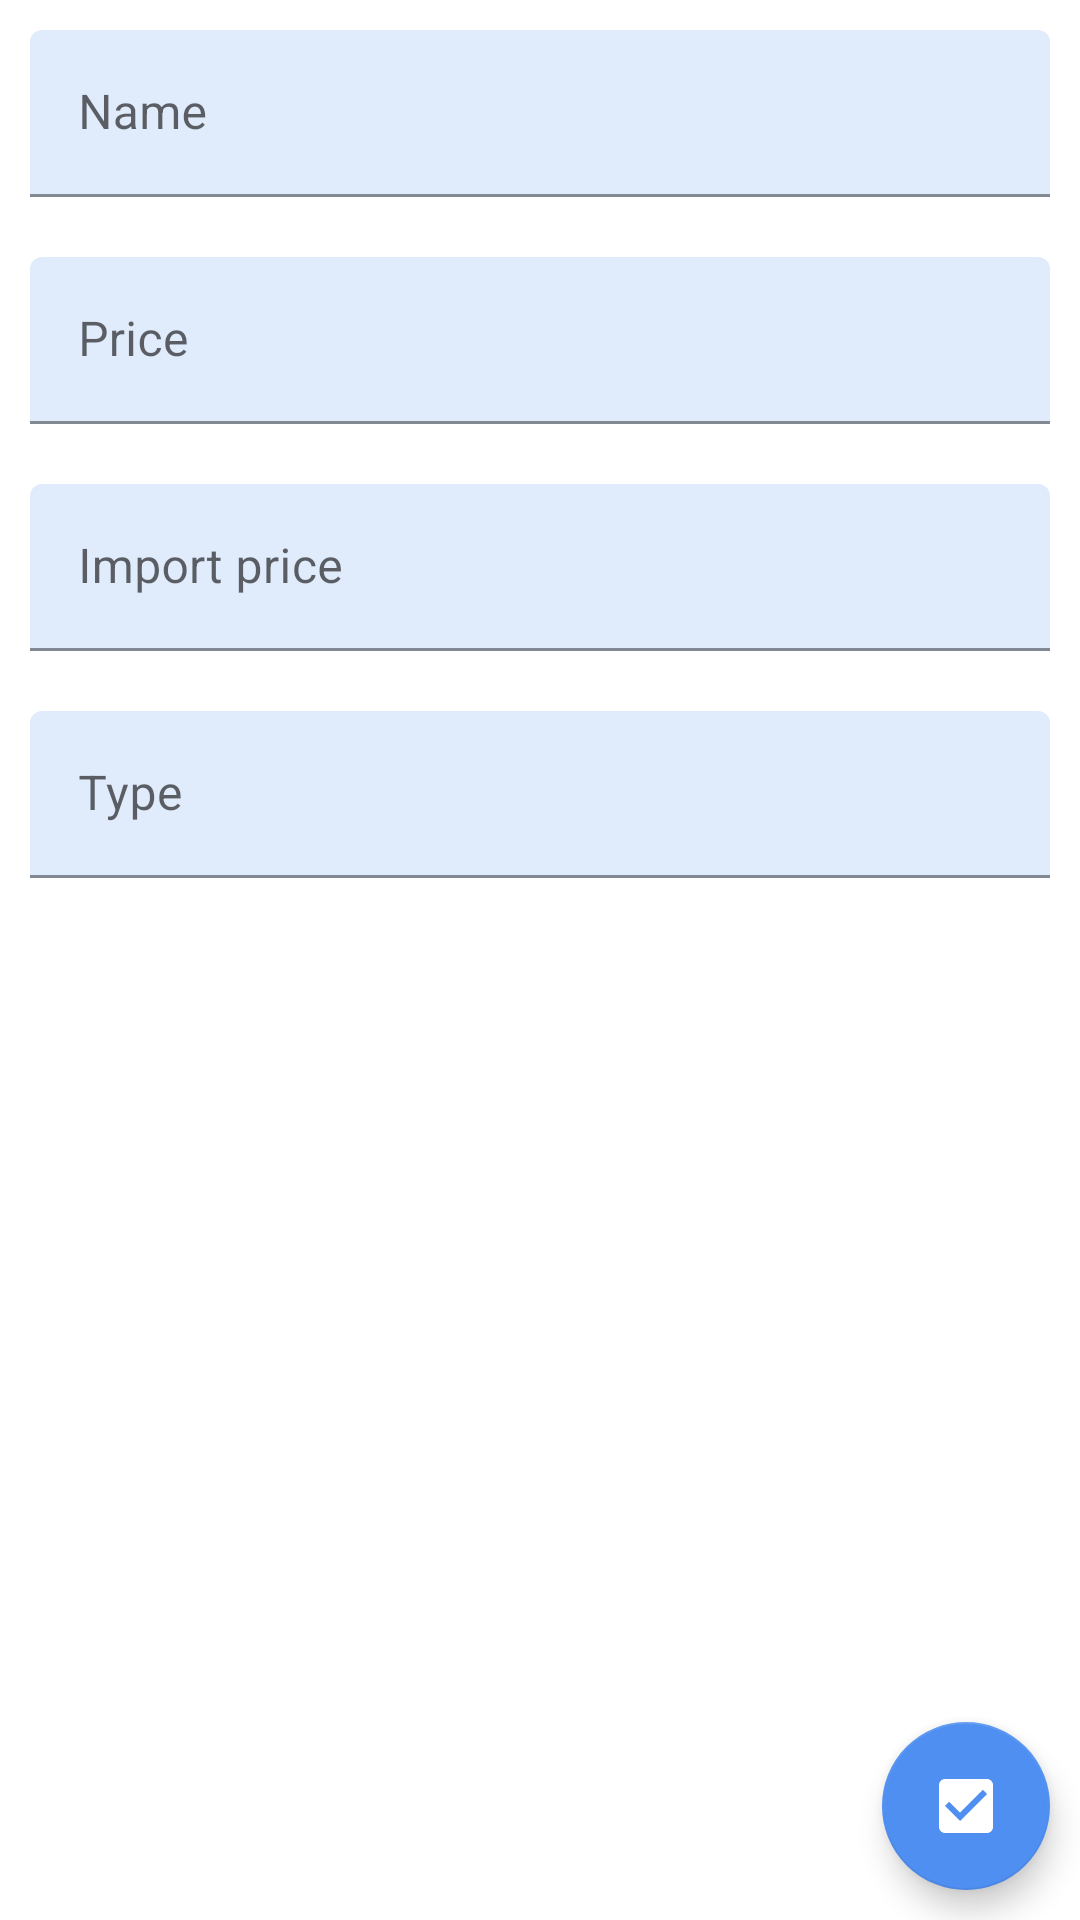

Icon bounding boxes for this 1080px×1920px phone screenshot, format (x1, y1, x2, y2):
confirm: (882, 1722, 1050, 1890)
